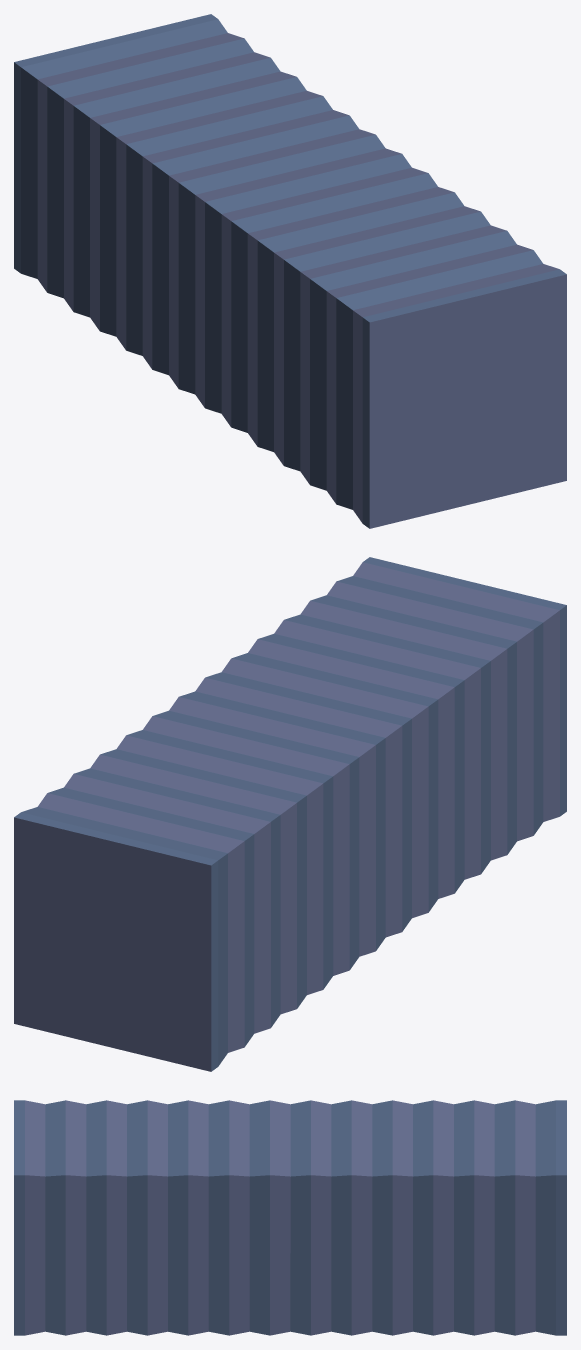
The model's file is cargocontainer.fbx.
3 renders of one model, top to bottom at view 1: azimuth 30°, elevation 25°; view 2: azimuth 150°, elevation 25°; view 3: azimuth 270°, elevation 25°, orthographic. The views are drawn at different scales.
Visible parts, largest first — view 1: Cube; view 2: Cube; view 3: Cube.
Boxes of the visible parts, x1,y1,x2,y2 form: Cube: (14,14,566,528); Cube: (14,557,566,1071); Cube: (14,1100,566,1335).
Size of the model in its own units: 200 by 200 by 625.
